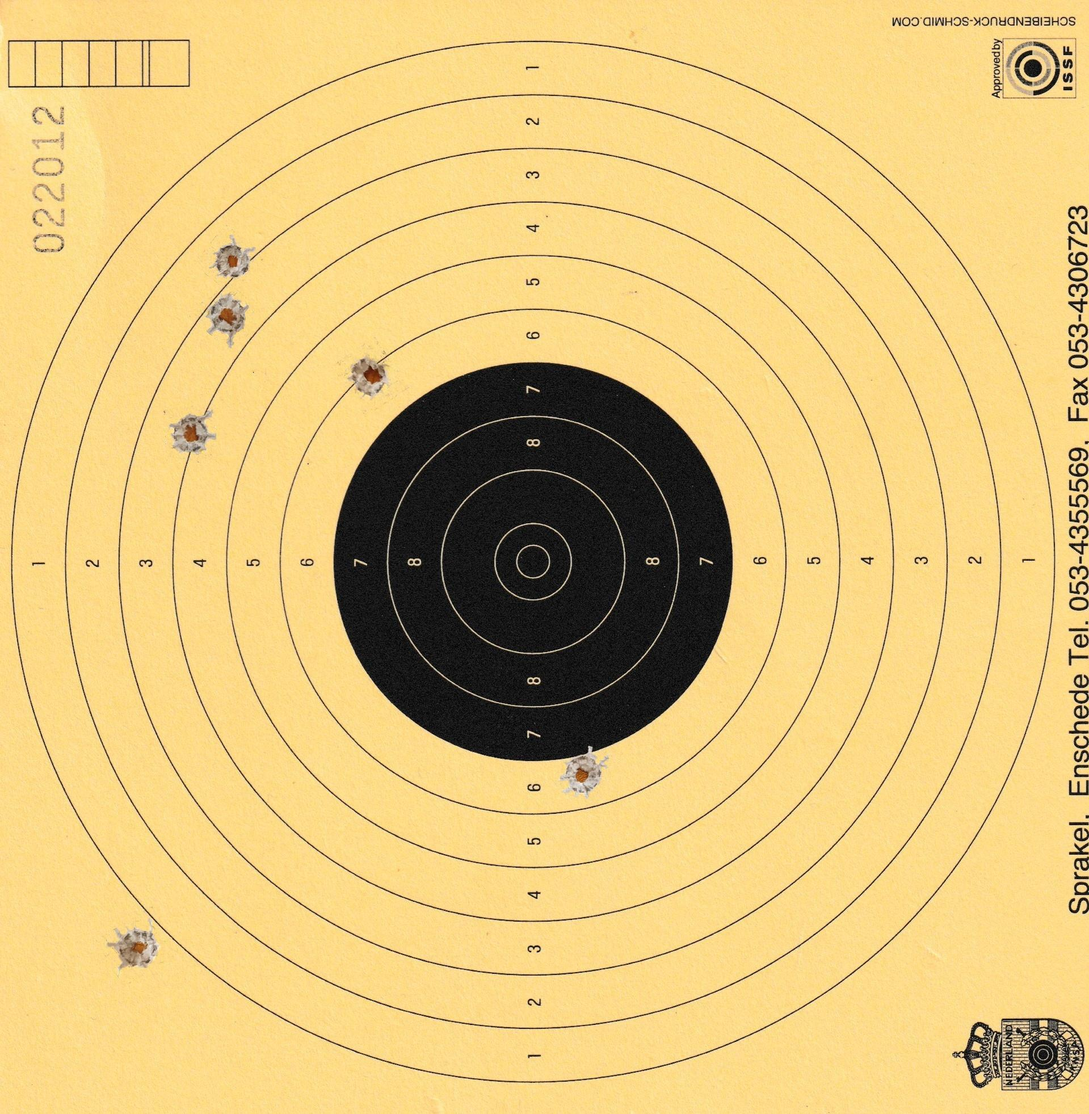hole: (105, 917, 161, 976), (556, 744, 610, 799), (203, 292, 250, 347), (209, 234, 257, 279), (169, 411, 218, 455), (348, 354, 391, 400)
